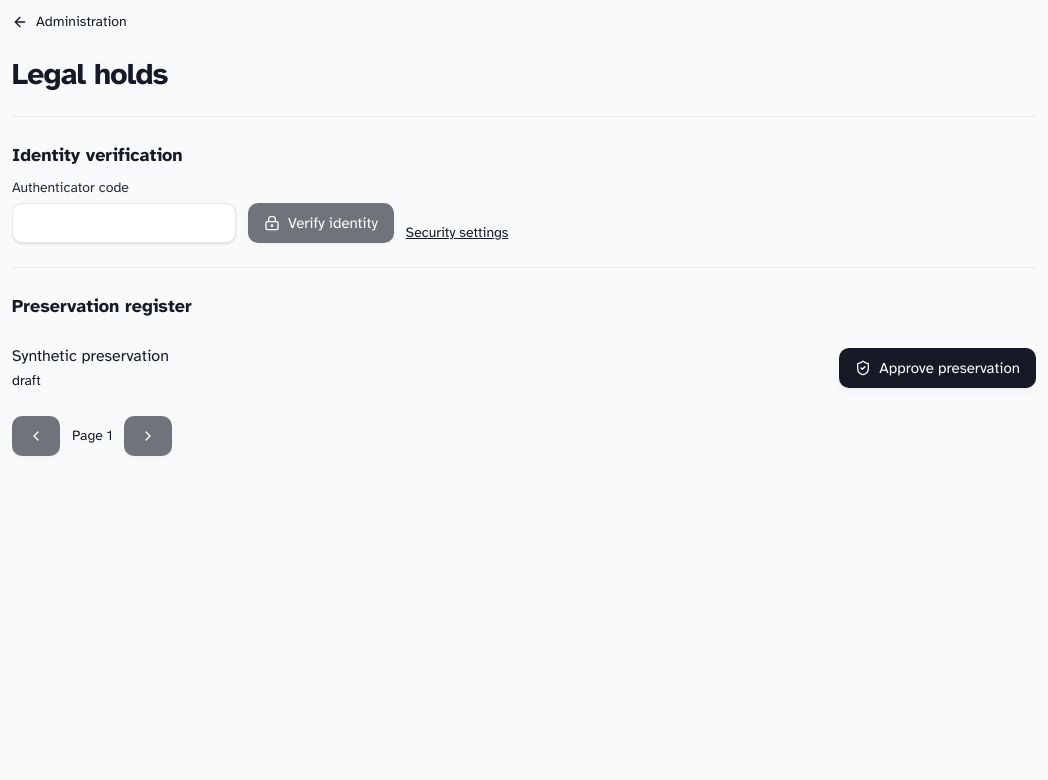
Test: Legal hold commands › lets an independent administrator approve without exposing owner-only diagnostics
Click the button "Approve preservation" at (938, 368), box [839,348,1036,388]
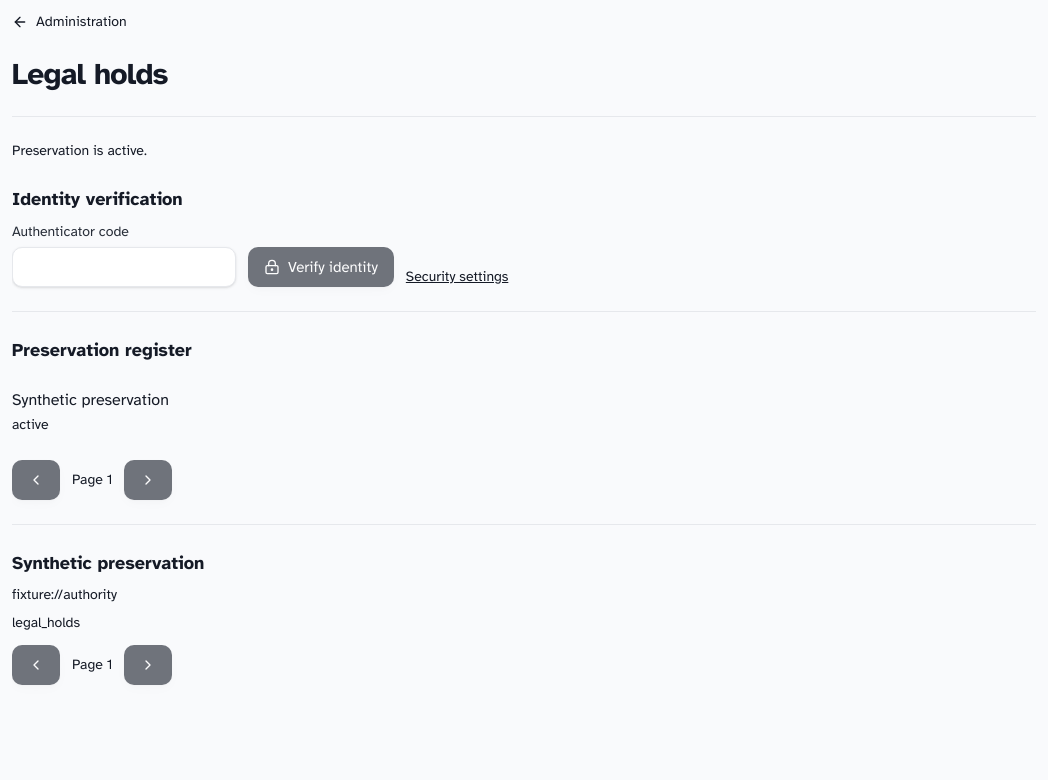
Check: the text "Preservation is active." is shown, box [12,142,147,159]
